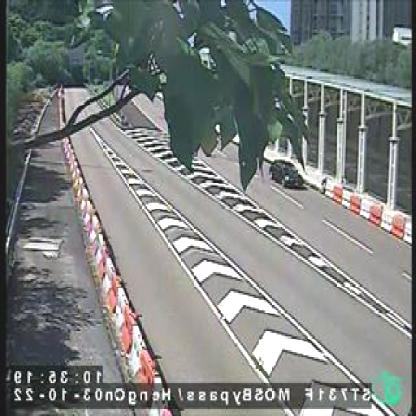Car: (272, 158, 304, 184)
